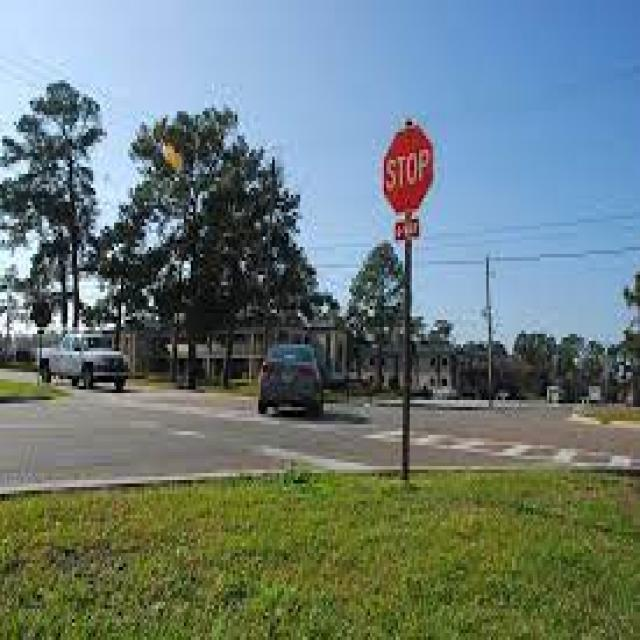stop-sign: (363, 113, 516, 268)
